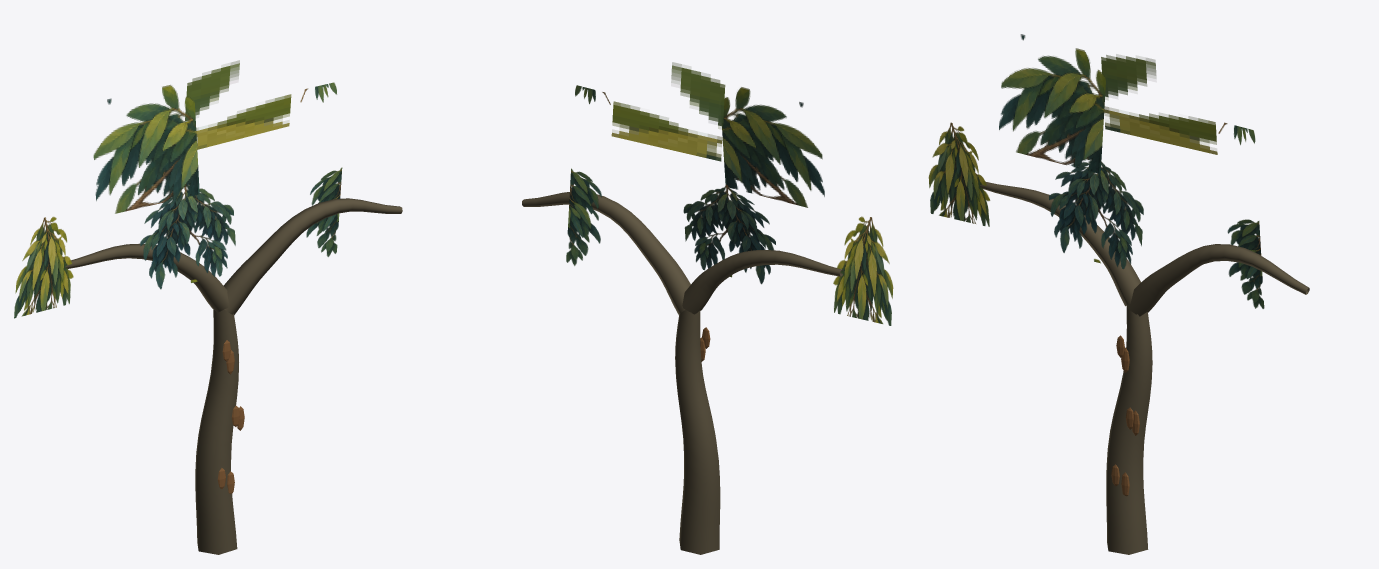
File: TREE_EUCALYPTUS_001_LOD_MAP.glb
3 renders of one model, left to right at view 1: azimuth 30°, elevation 25°; view 2: azimuth 150°, elevation 25°; view 3: azimuth 330°, elevation 25°, orthographic. The views are drawn at different scales.
Visible parts, largest first — view 1: GG_EUC_BODY_ISLAND_01_CLUSTER_00, GG_EUC_V4_MAIN_TRUNK, GG_EUC_BODY_ISLAND_05_CLUSTER_00, GG_EUC_BODY_ISLAND_02_CLUSTER_00, GG_EUC_V4_RIGHT_PRIMARY, GG_EUC_BODY_ISLAND_00_CLUSTER_00, GG_EUC_V4_LEFT_PRIMARY, GG_EUC_BODY_ISLAND_06_CLUSTER_00; view 2: GG_EUC_V4_MAIN_TRUNK, GG_EUC_BODY_ISLAND_01_CLUSTER_00, GG_EUC_BODY_ISLAND_02_CLUSTER_00, GG_EUC_BODY_ISLAND_05_CLUSTER_00, GG_EUC_BODY_ISLAND_00_CLUSTER_00, GG_EUC_V4_RIGHT_PRIMARY, GG_EUC_V4_LEFT_PRIMARY, GG_EUC_BODY_ISLAND_06_CLUSTER_00; view 3: GG_EUC_BODY_ISLAND_01_CLUSTER_00, GG_EUC_V4_MAIN_TRUNK, GG_EUC_BODY_ISLAND_05_CLUSTER_00, GG_EUC_BODY_ISLAND_02_CLUSTER_00, GG_EUC_BODY_ISLAND_00_CLUSTER_00, GG_EUC_V4_RIGHT_PRIMARY, GG_EUC_V4_LEFT_PRIMARY, GG_EUC_BODY_ISLAND_06_CLUSTER_00.
Boxes of the visible parts, left/top/right/bottom form: GG_EUC_BODY_ISLAND_01_CLUSTER_00: left=93, top=85, right=199, bottom=213; GG_EUC_V4_MAIN_TRUNK: left=195, top=309, right=238, bottom=554; GG_EUC_BODY_ISLAND_05_CLUSTER_00: left=140, top=186, right=235, bottom=289; GG_EUC_BODY_ISLAND_02_CLUSTER_00: left=185, top=60, right=291, bottom=149; GG_EUC_V4_RIGHT_PRIMARY: left=223, top=198, right=402, bottom=315; GG_EUC_BODY_ISLAND_00_CLUSTER_00: left=14, top=216, right=73, bottom=318; GG_EUC_V4_LEFT_PRIMARY: left=65, top=243, right=228, bottom=312; GG_EUC_BODY_ISLAND_06_CLUSTER_00: left=306, top=167, right=342, bottom=256; GG_EUC_V4_MAIN_TRUNK: left=675, top=310, right=720, bottom=554; GG_EUC_BODY_ISLAND_01_CLUSTER_00: left=722, top=87, right=824, bottom=207; GG_EUC_BODY_ISLAND_02_CLUSTER_00: left=611, top=62, right=725, bottom=161; GG_EUC_BODY_ISLAND_05_CLUSTER_00: left=683, top=184, right=775, bottom=284; GG_EUC_BODY_ISLAND_00_CLUSTER_00: left=833, top=216, right=893, bottom=325; GG_EUC_V4_RIGHT_PRIMARY: left=522, top=192, right=690, bottom=314; GG_EUC_V4_LEFT_PRIMARY: left=682, top=249, right=842, bottom=314; GG_EUC_BODY_ISLAND_06_CLUSTER_00: left=566, top=168, right=601, bottom=265; GG_EUC_BODY_ISLAND_01_CLUSTER_00: left=999, top=34, right=1105, bottom=173; GG_EUC_V4_MAIN_TRUNK: left=1106, top=305, right=1152, bottom=554; GG_EUC_BODY_ISLAND_05_CLUSTER_00: left=1049, top=161, right=1143, bottom=269; GG_EUC_BODY_ISLAND_02_CLUSTER_00: left=1101, top=54, right=1217, bottom=154; GG_EUC_BODY_ISLAND_00_CLUSTER_00: left=928, top=122, right=990, bottom=226; GG_EUC_V4_RIGHT_PRIMARY: left=1127, top=244, right=1309, bottom=316; GG_EUC_V4_LEFT_PRIMARY: left=980, top=181, right=1141, bottom=306; GG_EUC_BODY_ISLAND_06_CLUSTER_00: left=1227, top=219, right=1264, bottom=308.
Size of the model in its own units: 5.99 by 6.95 by 0.4937.
Materials: 3 (1 with a texture image).
